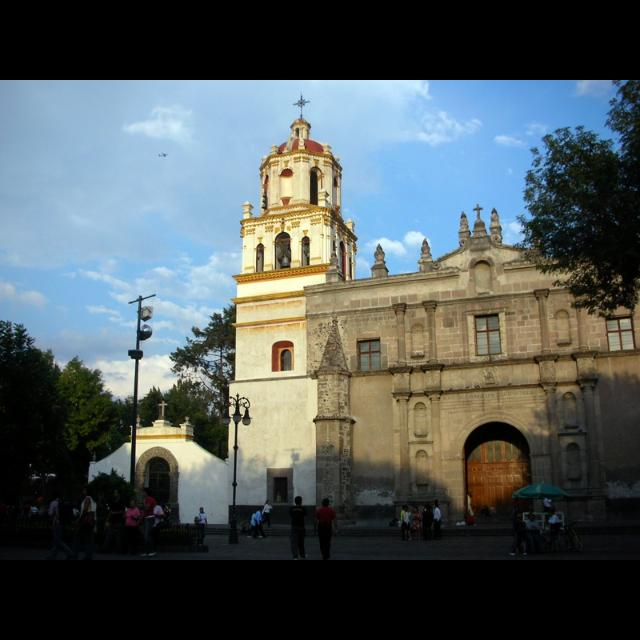head: (83, 487, 93, 497), (144, 489, 154, 499), (322, 499, 331, 508), (114, 490, 122, 500), (130, 499, 138, 508), (516, 514, 524, 522), (548, 510, 556, 518), (53, 492, 61, 500), (296, 496, 302, 504), (529, 514, 535, 522), (151, 500, 157, 508), (266, 500, 272, 506), (432, 503, 438, 509), (200, 508, 204, 514), (254, 510, 258, 514), (260, 509, 264, 513)
person: (138, 487, 166, 557), (105, 488, 128, 554), (122, 498, 144, 556), (507, 509, 529, 559), (146, 498, 164, 556), (541, 507, 563, 553), (524, 512, 544, 554), (192, 506, 210, 550), (253, 507, 271, 541), (246, 510, 260, 540), (261, 499, 275, 528), (432, 502, 443, 538)
